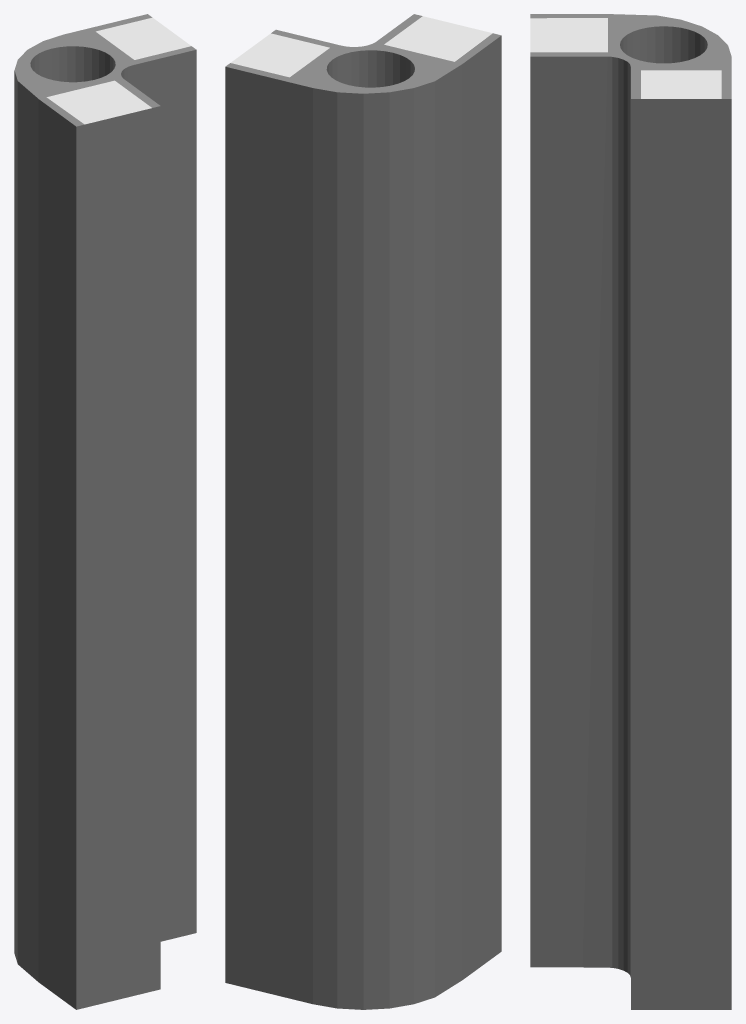
File: touniquetchunk.fbx
3 renders of one model, left to right at view 1: azimuth 30°, elevation 25°; view 2: azimuth 150°, elevation 25°; view 3: azimuth 270°, elevation 25°, orthographic. The views are drawn at different scales.
Parts seen in each view (by area): view 1: touniquetchunk; view 2: touniquetchunk; view 3: touniquetchunk.
Boxes of the visible parts, x1=… form: touniquetchunk: x1=14, y1=14, x2=196, y2=1009; touniquetchunk: x1=225, y1=14, x2=501, y2=1009; touniquetchunk: x1=530, y1=14, x2=731, y2=1009.
Bounding box in the file's own units: 100 × 100 × 500.
